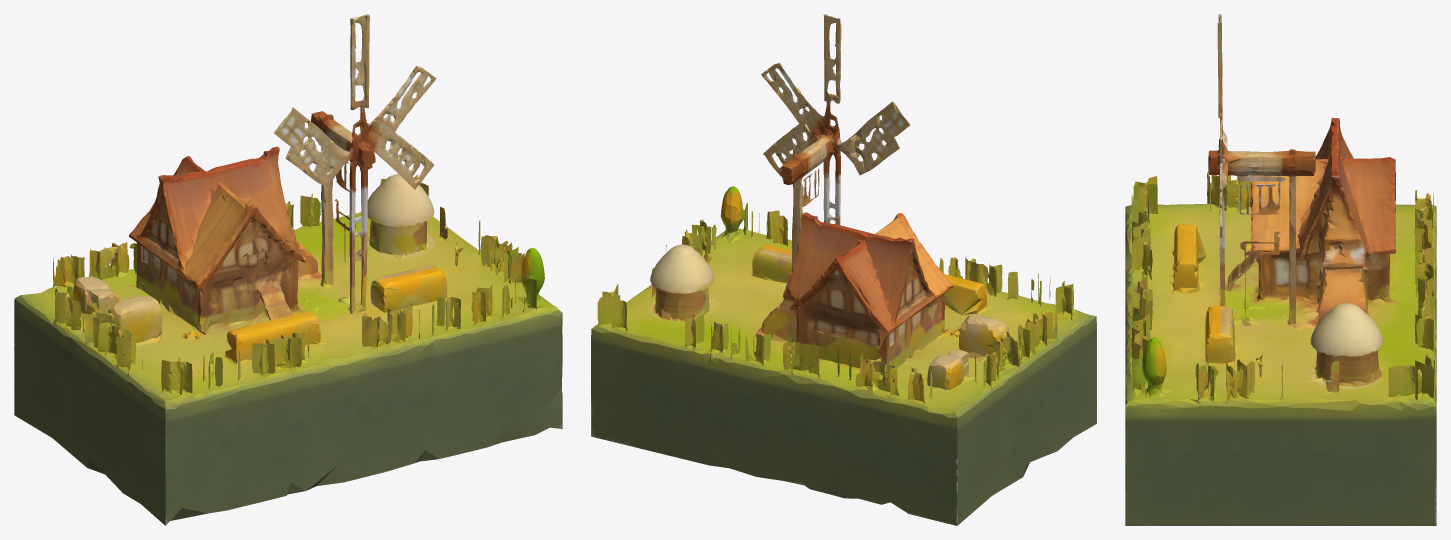
Rendered from human_farm.glb.
The picture shows the model from 3 angles, left to right: view 1: azimuth 30°, elevation 25°; view 2: azimuth 150°, elevation 25°; view 3: azimuth 270°, elevation 25°; orthographic projection. The views are drawn at different scales.
Parts seen in each view (by area): view 1: human_farm; view 2: human_farm; view 3: human_farm.
Boxes of the visible parts, <box> form: human_farm: <box>14,14,562,525</box>; human_farm: <box>591,14,1096,525</box>; human_farm: <box>1125,14,1436,525</box>.
Bounding box in the file's own units: 1.89 × 1.9 × 1.25.
1 material, 1 textured.
